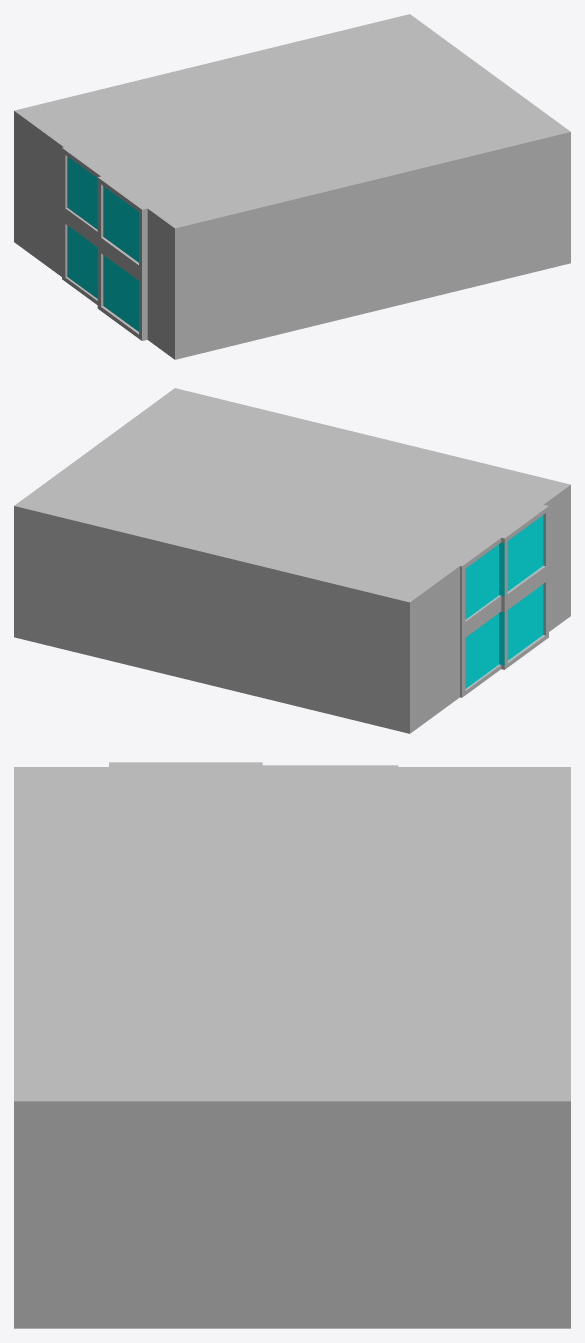
File: HomeBase.obj
3 renders of one model, top to bottom at view 1: azimuth 30°, elevation 25°; view 2: azimuth 150°, elevation 25°; view 3: azimuth 270°, elevation 25°, orthographic. The views are drawn at different scales.
Parts seen in each view (by area): view 1: 天井, 壁.001, 壁.003, 壁.002; view 2: 天井, 壁, 壁.003, 壁.002; view 3: 天井, 壁.002, 壁.003.
Boxes of the visible parts, box(x1,y1,x2,y2) form: 天井: box(18, 14, 568, 227); 壁.001: box(181, 133, 565, 357); 壁.003: box(14, 109, 185, 359); 壁.002: box(409, 14, 570, 264); 天井: box(16, 388, 566, 601); 壁: box(19, 507, 404, 732); 壁.003: box(399, 483, 570, 733); 壁.002: box(14, 388, 175, 639); 天井: box(14, 770, 570, 1099); 壁.002: box(14, 1100, 570, 1328); 壁.003: box(14, 762, 570, 770).
Bounding box in the file's own units: 144 × 45.07 × 100.
